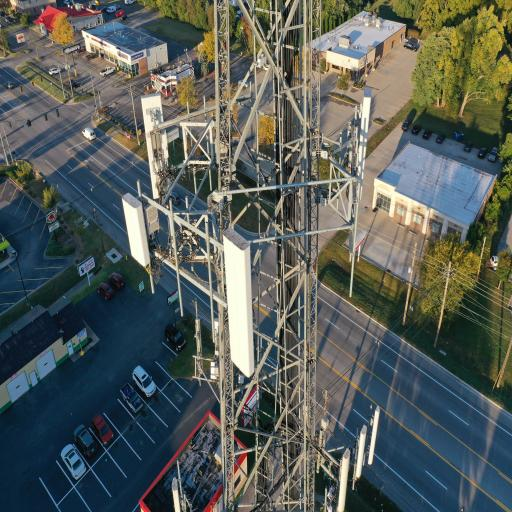supporting_tower: (112, 0, 404, 512)
